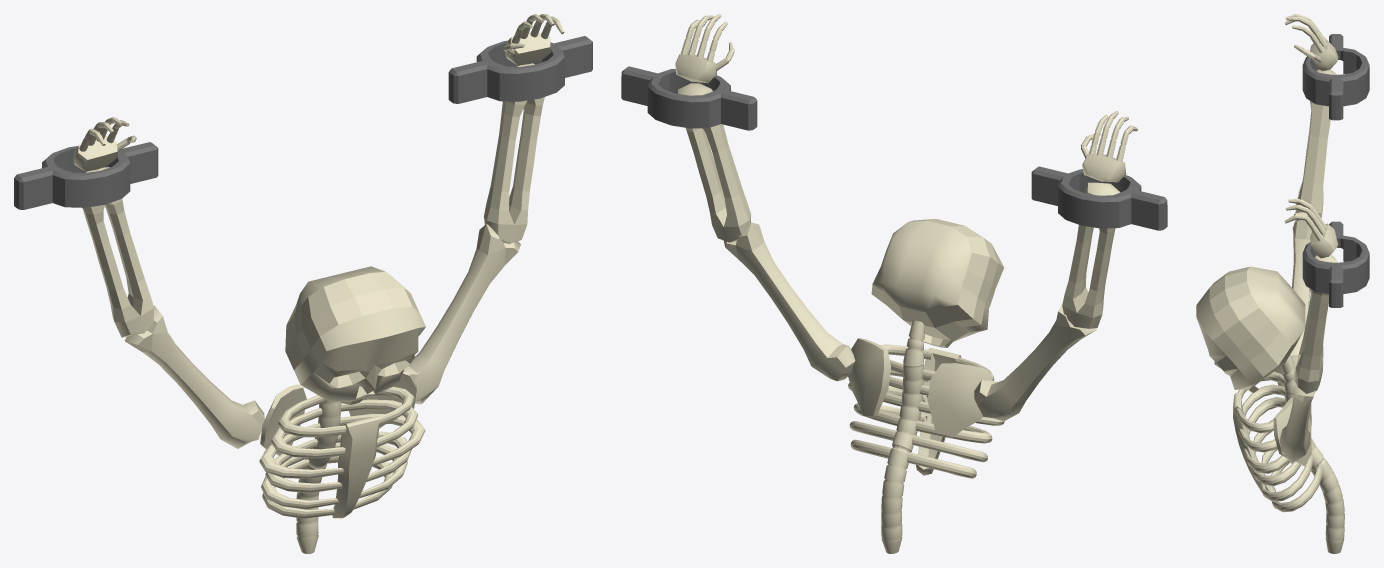
The model's file is Cadaver3.fbx.
3 views of the same model, side by side, from view 1: azimuth 30°, elevation 25°; view 2: azimuth 150°, elevation 25°; view 3: azimuth 270°, elevation 25° (orthographic). The views are drawn at different scales.
Visible parts, largest first — view 1: Cadaver3; view 2: Cadaver3; view 3: Cadaver3.
Boxes of the visible parts, <box> form: Cadaver3: <box>14,14,592,553</box>; Cadaver3: <box>621,14,1167,553</box>; Cadaver3: <box>1196,14,1369,553</box>.
Size of the model in its own units: 0.0126 by 0.0105 by 0.00374.
